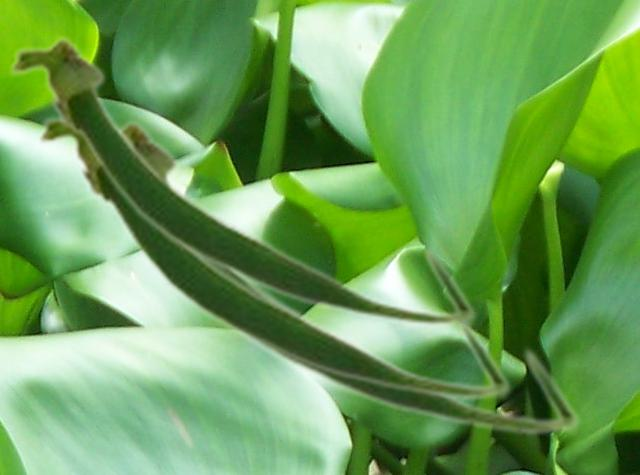french_bean: (71, 115, 581, 437), (6, 32, 477, 329), (34, 110, 512, 402)
